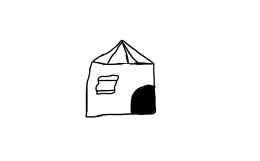closed_window: (92, 70, 121, 100)
door: (129, 80, 161, 119)
roof: (86, 34, 162, 67)
small_house: (1, 1, 260, 161)
wall: (82, 59, 159, 122)
